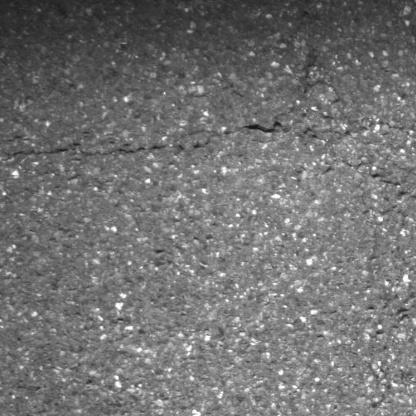Cracks: (0, 119, 291, 163), (294, 120, 416, 147)
